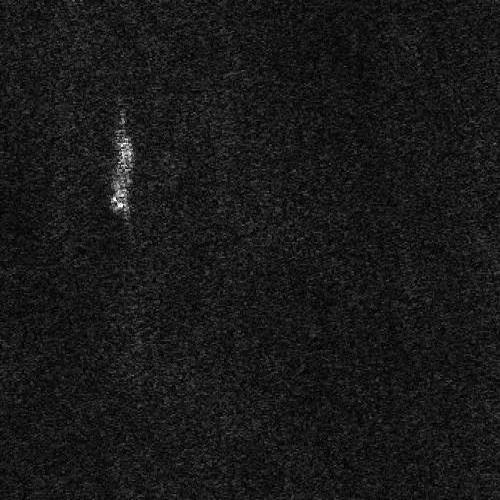ship: (108, 135, 136, 218)
